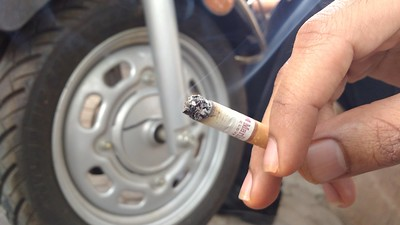cigarette: (181, 90, 272, 152)
